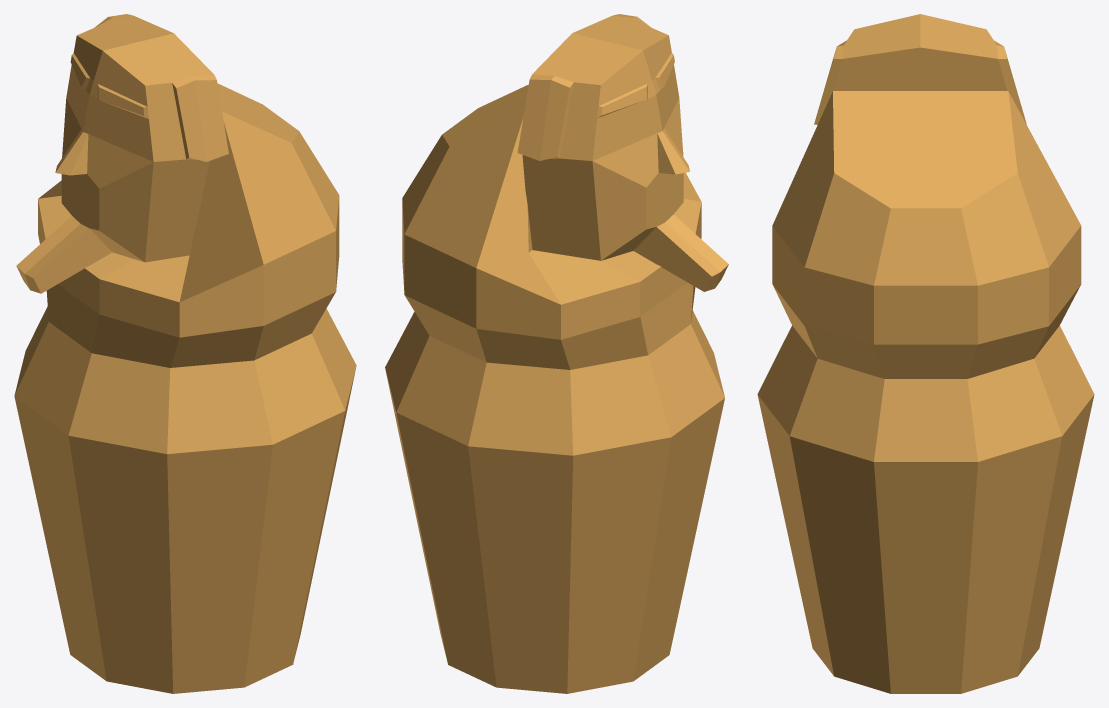
The model's file is Vasija1.fbx.
3 views of the same model, side by side, from view 1: azimuth 30°, elevation 25°; view 2: azimuth 150°, elevation 25°; view 3: azimuth 270°, elevation 25° (orthographic). The views are drawn at different scales.
Parts seen in each view (by area): view 1: Vasija, Cara; view 2: Vasija, Cara; view 3: Vasija, Cara.
Boxes of the visible parts, bbox=[...] form: Vasija: bbox=[14, 83, 356, 693]; Cara: bbox=[16, 14, 228, 293]; Vasija: bbox=[385, 84, 724, 693]; Cara: bbox=[517, 14, 728, 291]; Vasija: bbox=[757, 91, 1094, 693]; Cara: bbox=[814, 14, 1026, 124].
Bounding box in the file's own units: 40.61 × 77.8 × 40.
